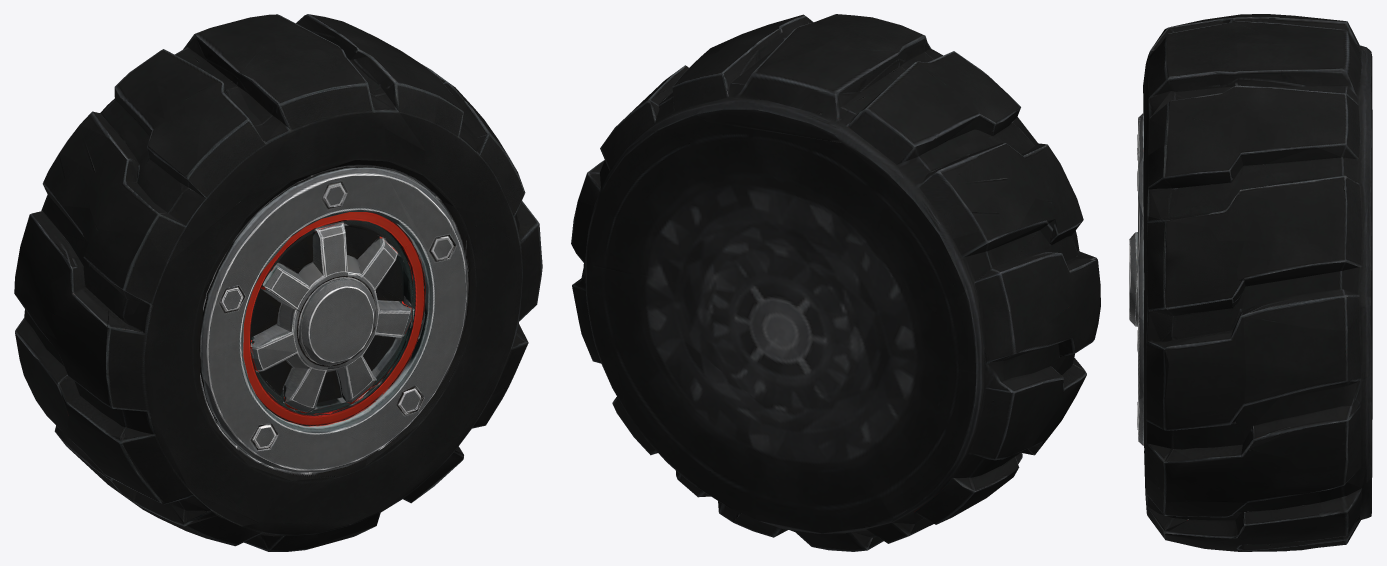
The model's file is wheel_medium.glb.
3 views of the same model, side by side, from view 1: azimuth 30°, elevation 25°; view 2: azimuth 150°, elevation 25°; view 3: azimuth 270°, elevation 25° (orthographic). The views are drawn at different scales.
Parts seen in each view (by area): view 1: output_unwrapped; view 2: output_unwrapped; view 3: output_unwrapped.
Boxes of the visible parts, x1,y1,x2,y2 form: output_unwrapped: [14, 14, 542, 551]; output_unwrapped: [571, 14, 1100, 551]; output_unwrapped: [1129, 14, 1372, 551].
Size of the model in its own units: 2 by 1.99 by 0.9006.
1 material, 1 textured.
